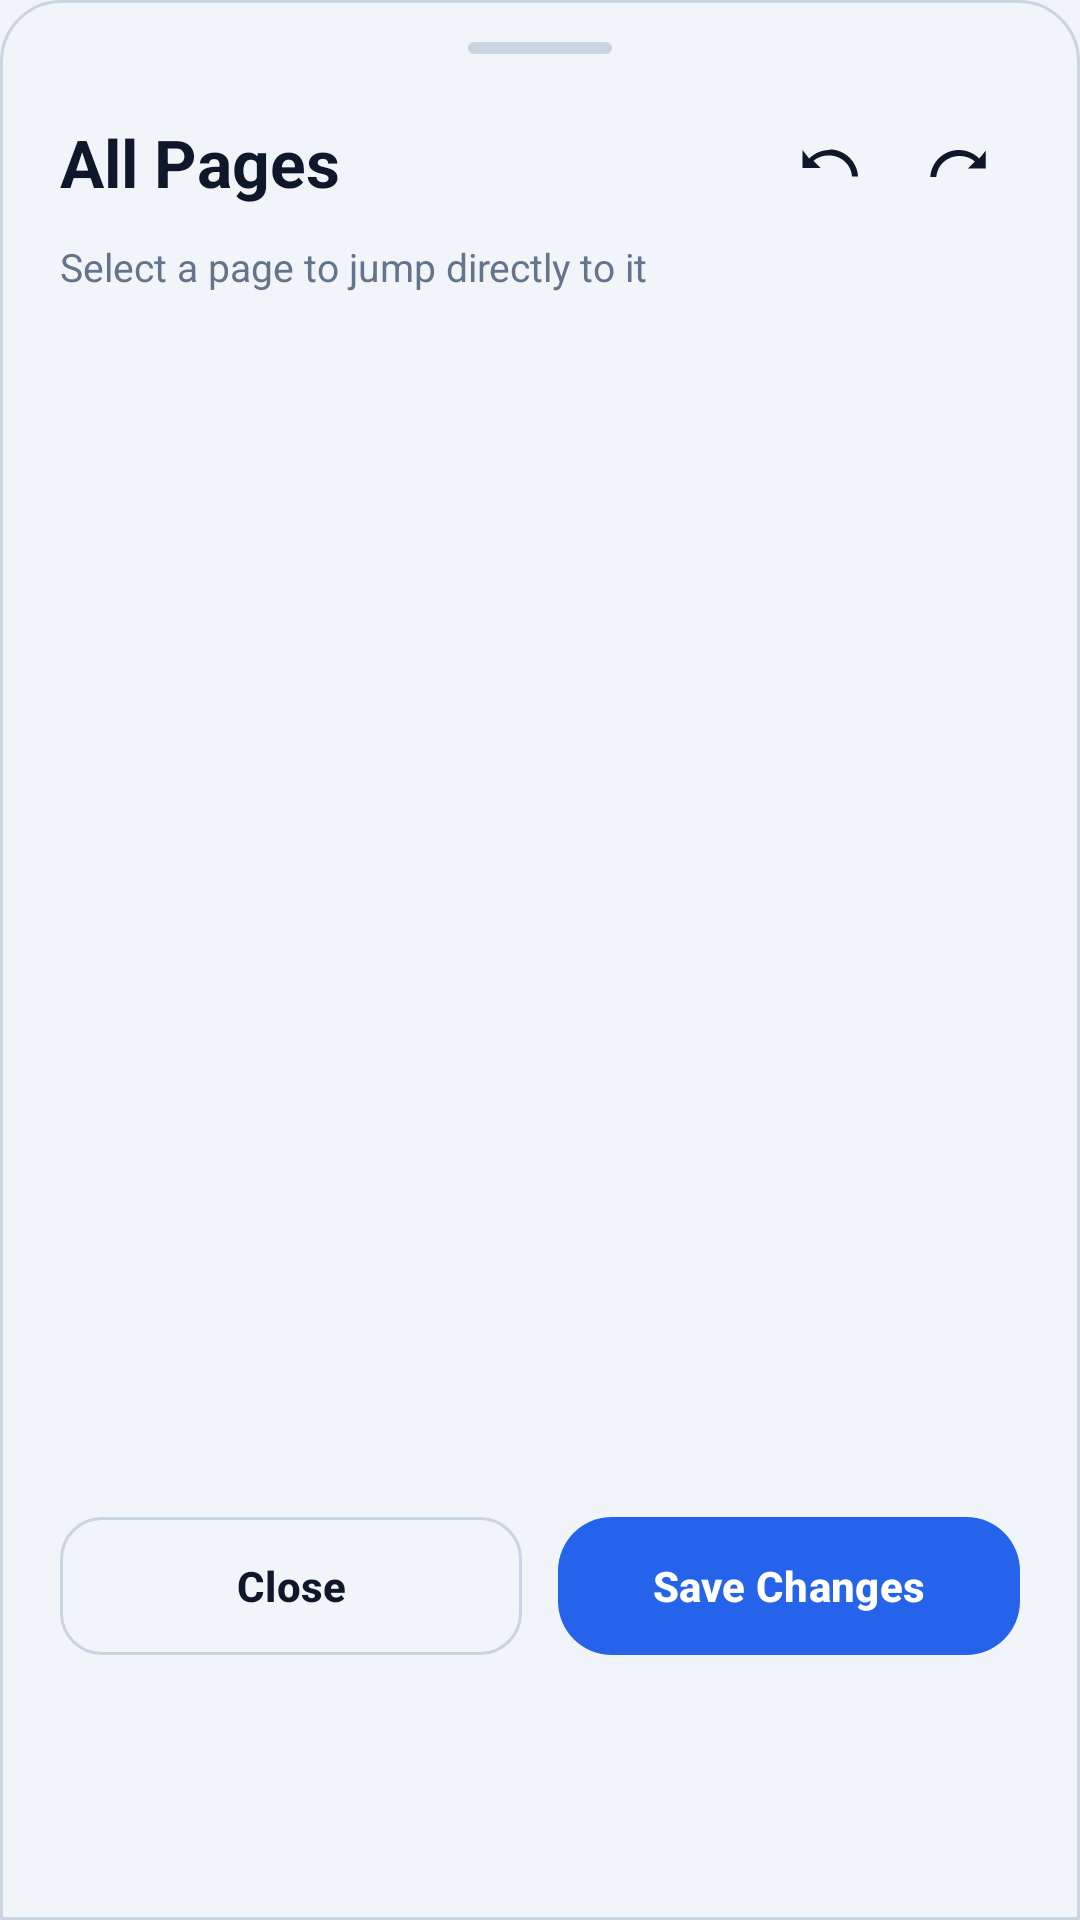

Named icons in this screenshot (1080px x 1920px) and their bounding boxes, {"left": x1, "top": y1, "right": x2, "bottom": y2}:
Redo: {"left": 930, "top": 150, "right": 986, "bottom": 177}
Undo: {"left": 802, "top": 149, "right": 858, "bottom": 177}
